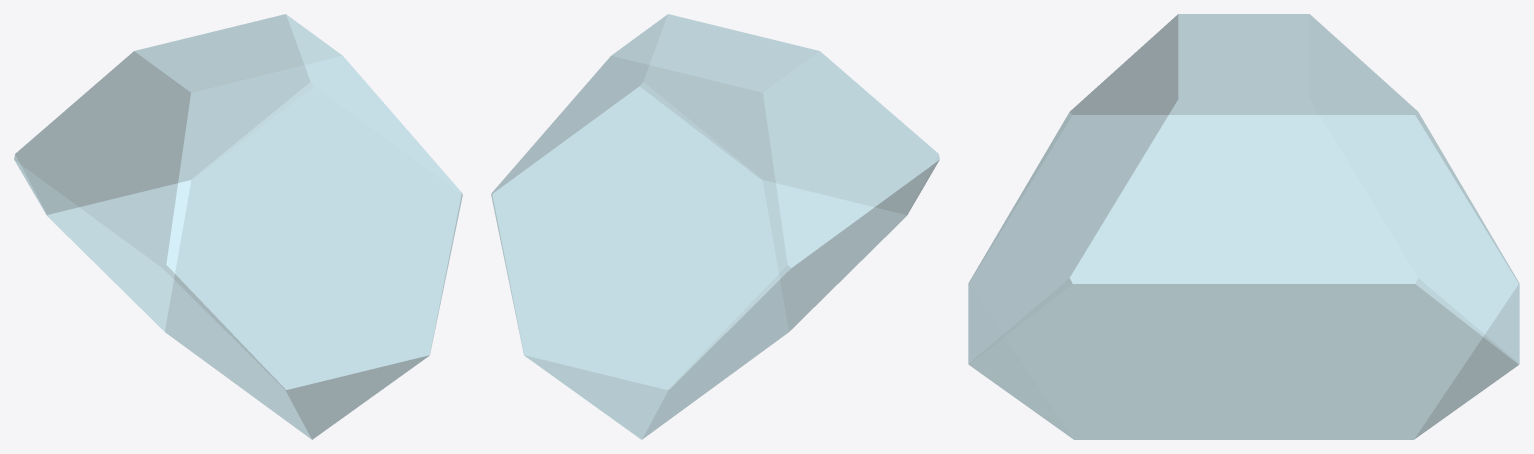
File: 141_oxygen.glb
3 renders of one model, left to right at view 1: azimuth 30°, elevation 25°; view 2: azimuth 150°, elevation 25°; view 3: azimuth 270°, elevation 25°, orthographic. The views are drawn at different scales.
Bounding box in the file's own units: 2.35 × 2.48 × 3.24.
